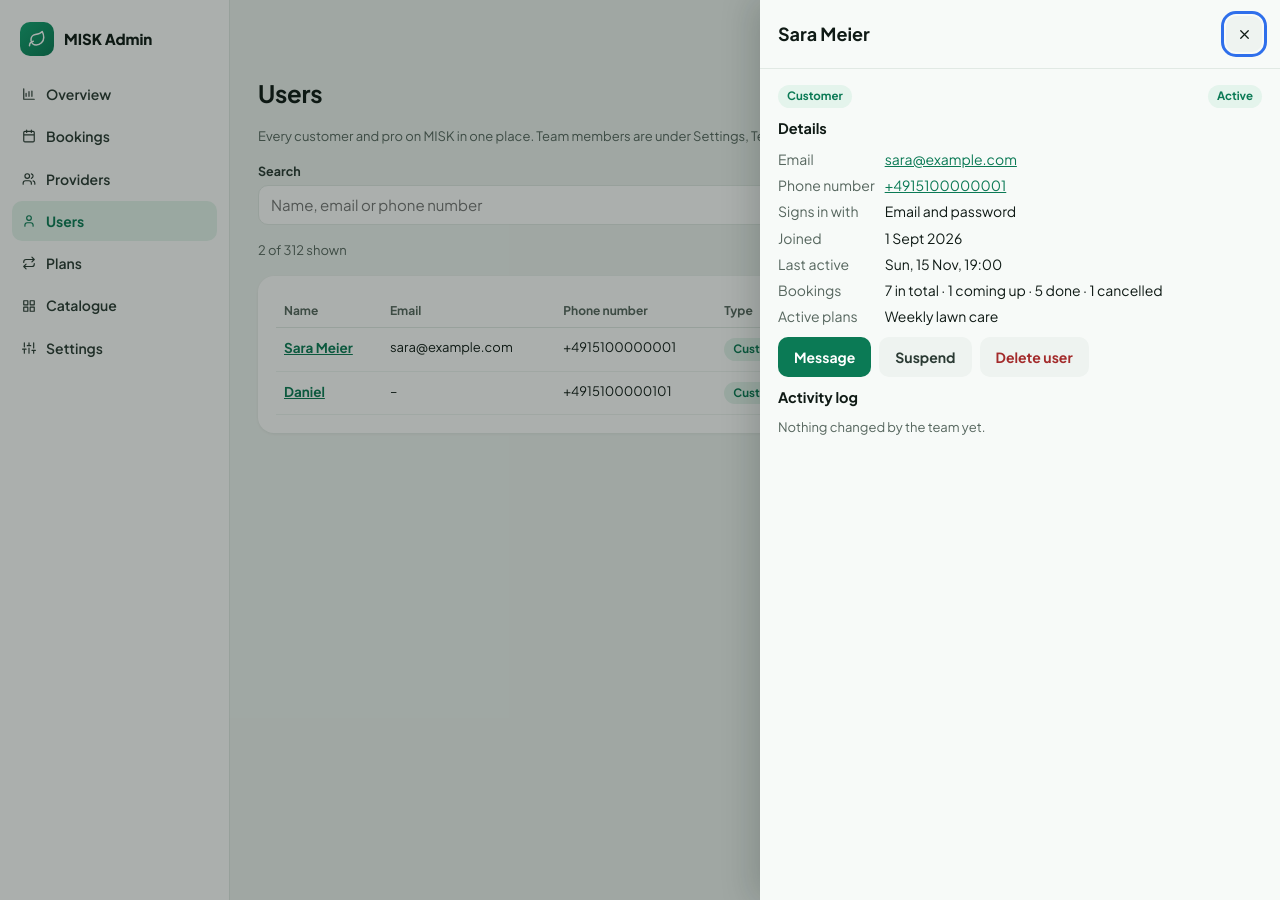
Test case: telling people how they were reached (D87) › lets the team write what the suspended person is told, separate from the internal reason
The width and height of the screenshot is (1280, 900).
Click the button "Suspend".
click(925, 357)  # box [879,337,972,377]
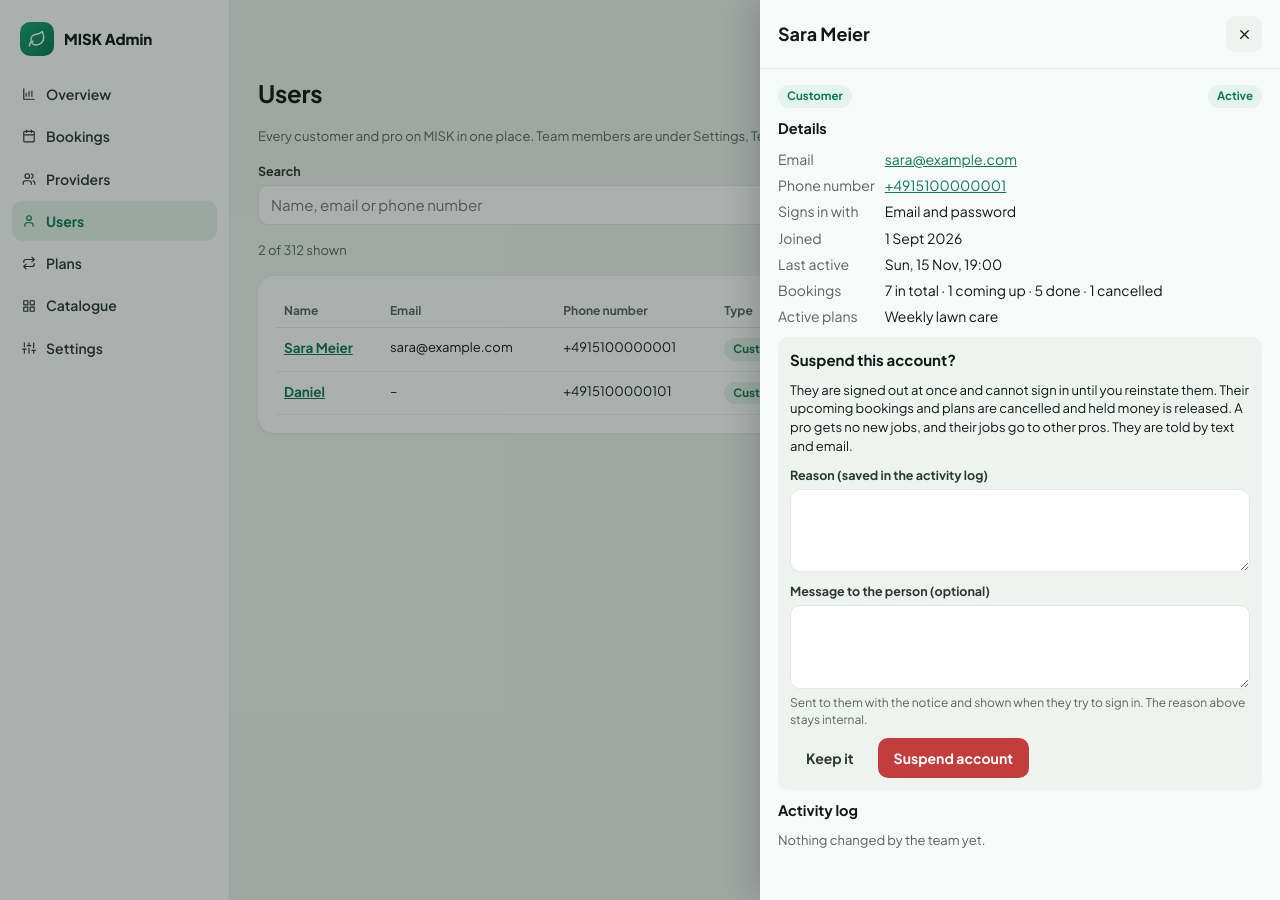
Type "Chargeback" into the text box labelled "Reason (saved in the activity log)".
click(1020, 531); type("Chargeback")  # box [790,489,1250,572]
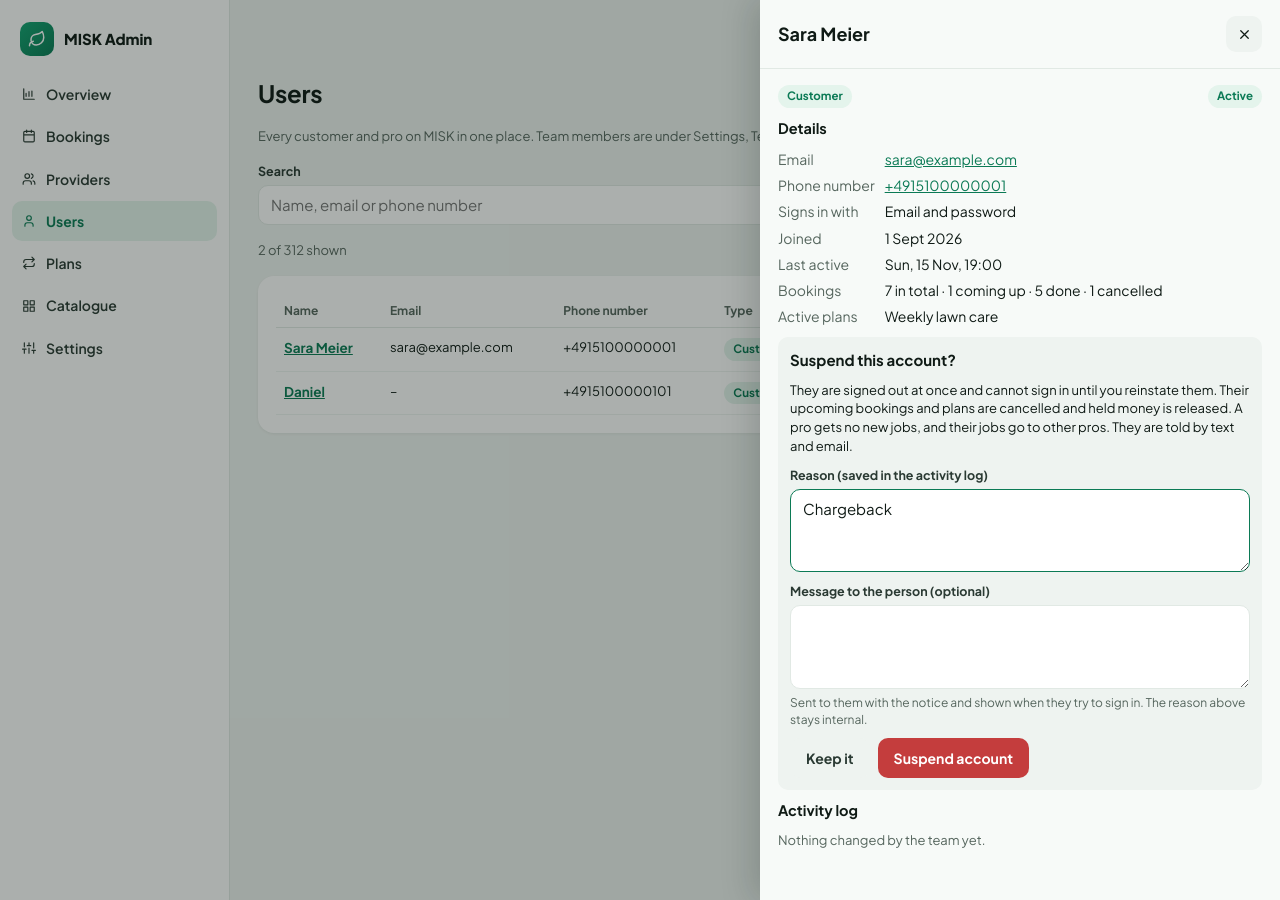
Type "  Please call us about your last payment. " into the text box labelled "Message to the person (optional)".
click(1020, 647); type("  Please call us about your last payment. ")  # box [790,605,1250,689]
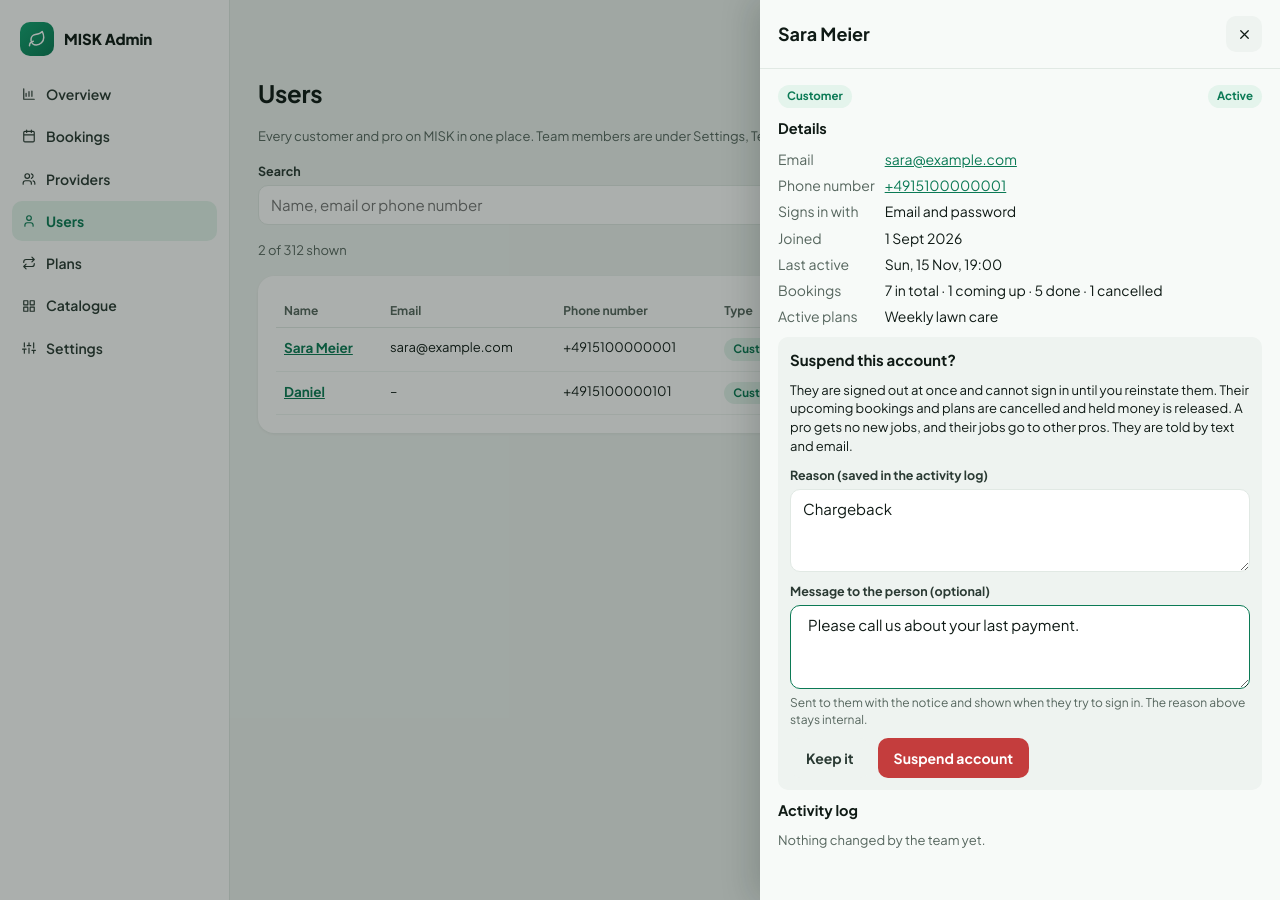
Click the button "Suspend account".
click(953, 758)  # box [878,738,1029,778]
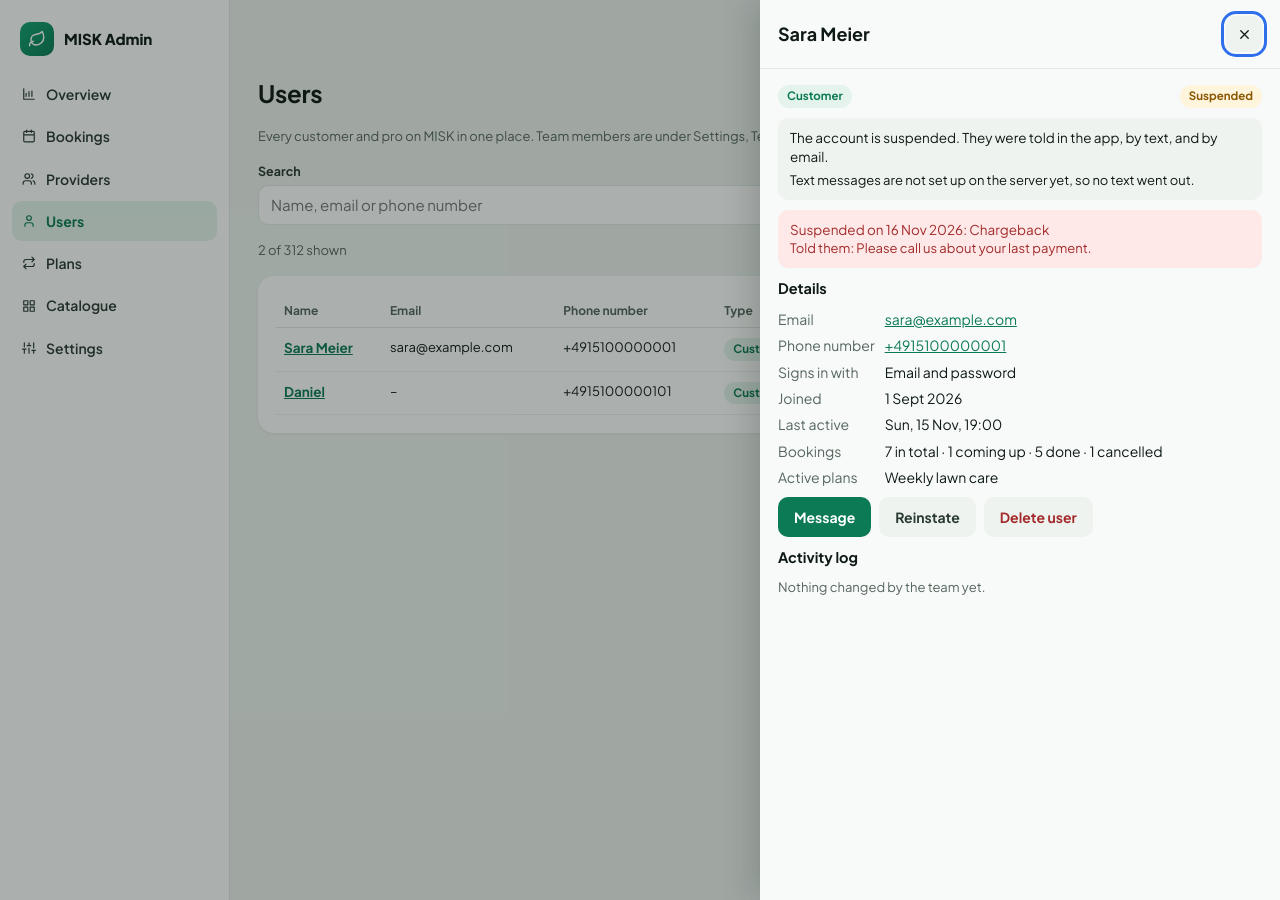
Check: the text "Told them: Please call us about your last payment." is shown, box [790,240,1092,256]
